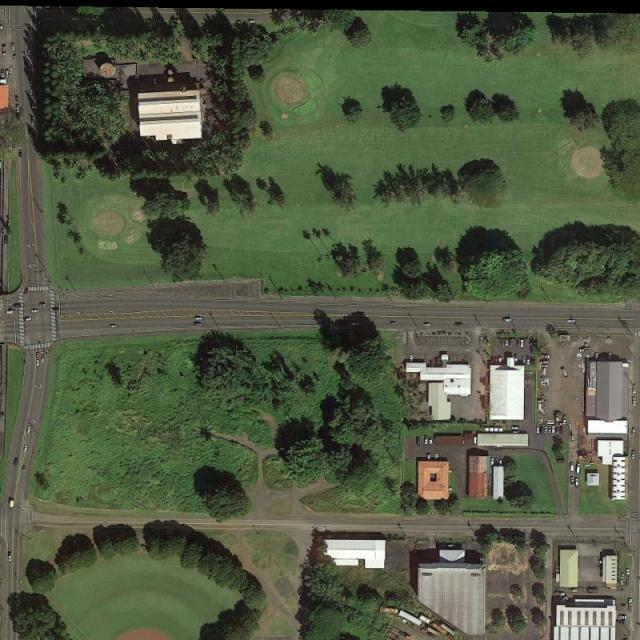vehicle: (560, 595, 571, 604), (560, 367, 569, 378), (569, 588, 580, 594), (632, 396, 638, 407), (586, 589, 599, 594), (478, 336, 485, 345), (554, 592, 566, 597), (10, 499, 15, 510), (2, 46, 7, 57), (539, 354, 550, 359), (26, 426, 32, 435), (31, 116, 36, 126), (424, 435, 429, 445), (632, 384, 637, 394), (526, 356, 531, 366), (617, 615, 627, 620), (498, 459, 504, 467), (562, 414, 566, 426), (8, 142, 13, 151), (194, 322, 203, 327), (575, 479, 580, 488), (567, 319, 576, 324), (594, 353, 599, 362), (8, 551, 12, 562), (577, 463, 581, 474), (502, 318, 513, 322), (14, 459, 19, 467), (248, 19, 256, 24), (15, 95, 20, 103), (18, 150, 23, 158), (416, 436, 420, 446), (494, 458, 499, 466), (570, 462, 574, 472), (454, 323, 464, 327), (514, 355, 518, 365), (548, 426, 553, 434), (631, 450, 635, 460), (31, 310, 40, 314), (38, 302, 47, 306), (24, 318, 33, 322), (28, 49, 32, 58), (12, 42, 16, 51), (2, 70, 6, 79), (16, 104, 20, 113), (17, 113, 21, 122), (430, 436, 434, 445), (609, 353, 613, 362), (632, 427, 636, 436), (521, 340, 525, 349), (522, 356, 526, 365), (541, 361, 550, 365), (553, 426, 557, 435), (626, 569, 630, 578), (23, 446, 28, 453), (42, 355, 46, 363), (13, 54, 17, 62), (30, 80, 34, 88), (6, 70, 10, 78), (18, 142, 22, 150), (30, 90, 34, 98), (490, 458, 494, 466), (110, 324, 118, 328), (410, 354, 414, 362), (512, 426, 520, 430), (570, 477, 574, 485), (560, 426, 564, 434), (390, 322, 398, 326), (423, 323, 431, 327), (506, 339, 510, 347), (510, 339, 514, 347), (517, 340, 521, 348), (556, 426, 560, 434), (536, 426, 540, 434), (540, 426, 544, 434), (545, 426, 549, 434), (22, 466, 27, 472), (23, 288, 28, 294), (37, 360, 41, 367), (498, 357, 502, 364), (427, 453, 431, 460), (37, 352, 40, 360), (1, 25, 5, 31), (10, 66, 13, 74), (502, 339, 505, 347), (196, 318, 203, 321), (622, 638, 630, 640)
